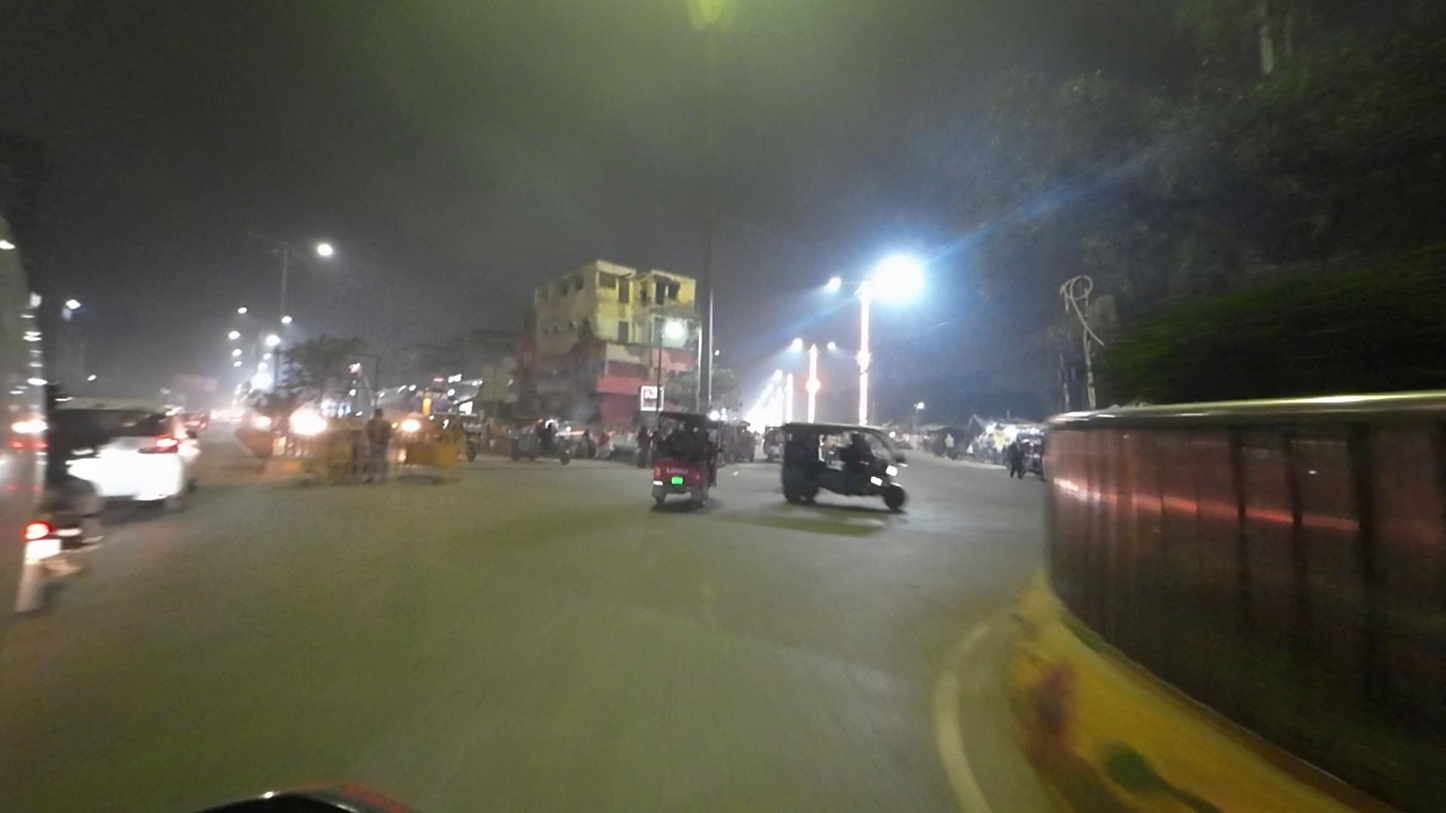streetlight: (244, 228, 285, 248)
